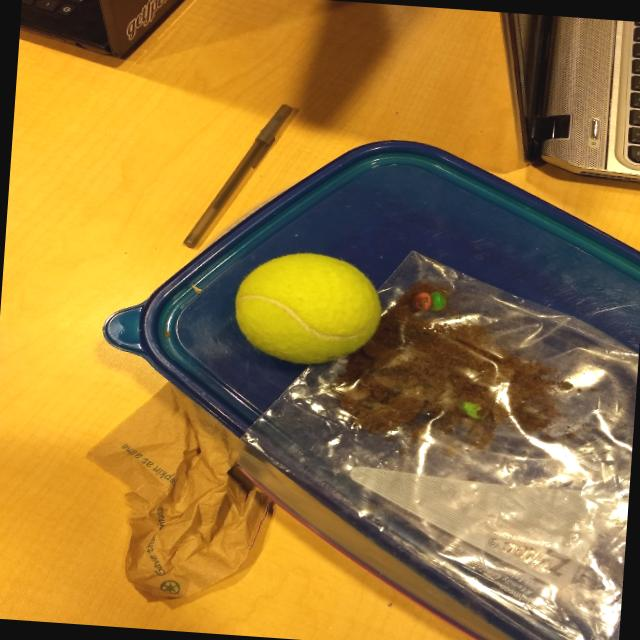Tennis Ball: (234, 248, 384, 366)
